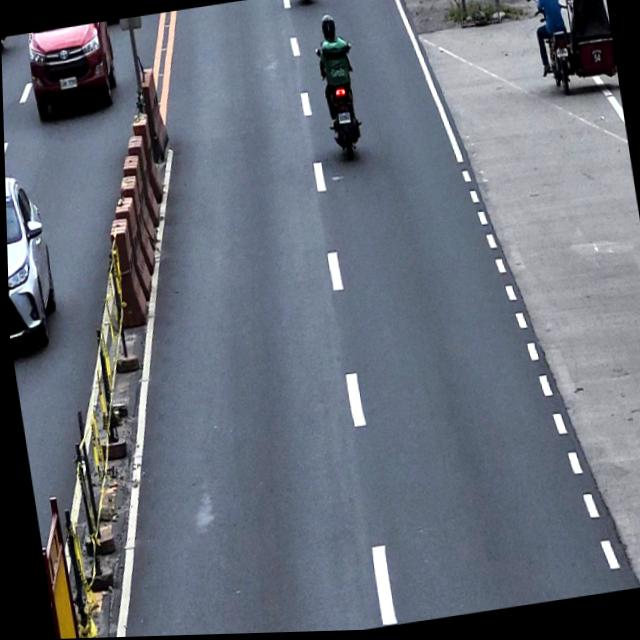Car: (4, 170, 64, 355), (23, 22, 118, 122)
License-Plate: (58, 75, 77, 91), (336, 113, 350, 126), (555, 48, 567, 61)
Motorcycle: (312, 42, 367, 160)
Tricycle: (526, 0, 619, 100)
